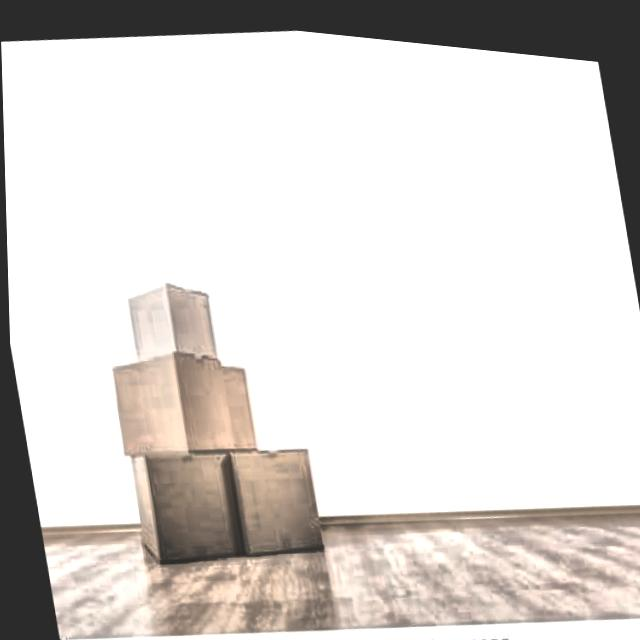Cardbox: (97, 328, 275, 480), (212, 410, 348, 567), (112, 427, 244, 571), (118, 275, 228, 373)
